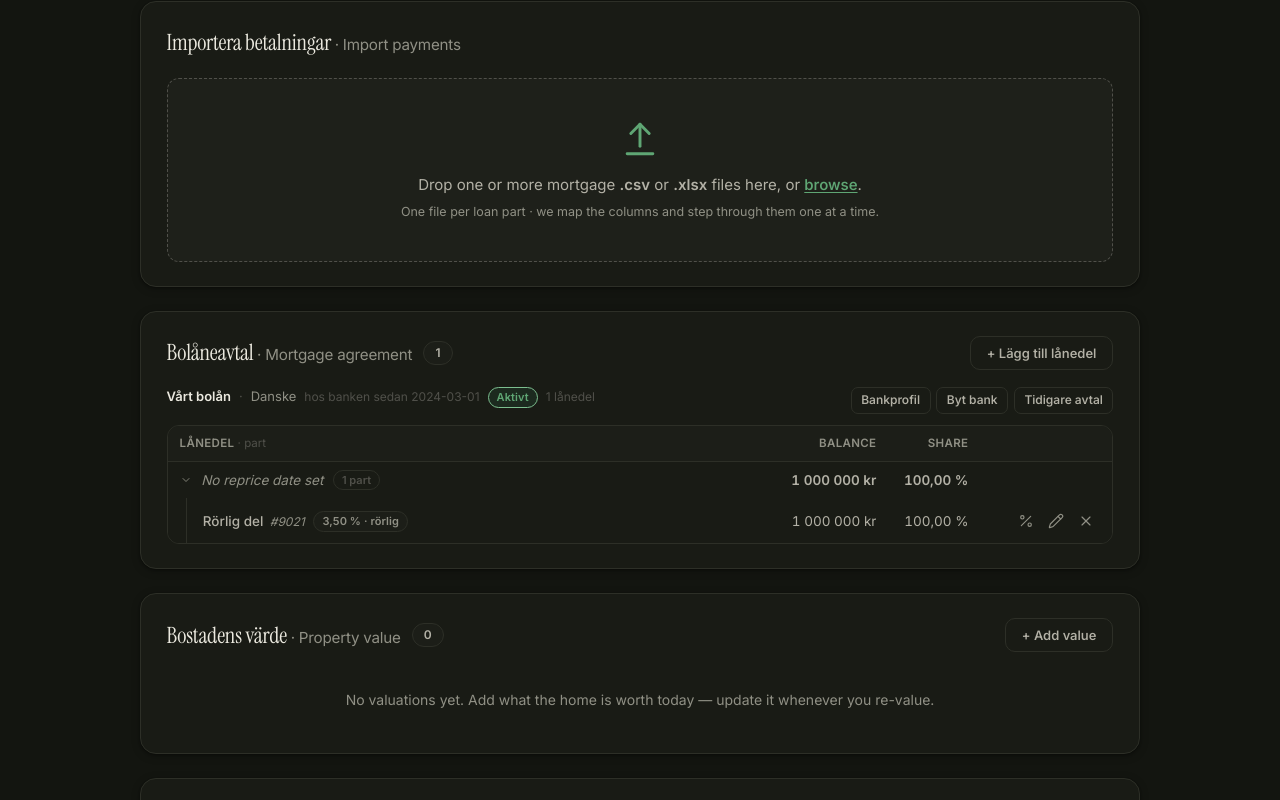
Test: Bolanekoll — change-bank wizard (plan 109c Stage 2) › previews the copied fields, and supports add/edit/remove of drafts
(page scrolled)
Click the button "Byt bank". click: (972, 400)
box: [936,387,1008,414]
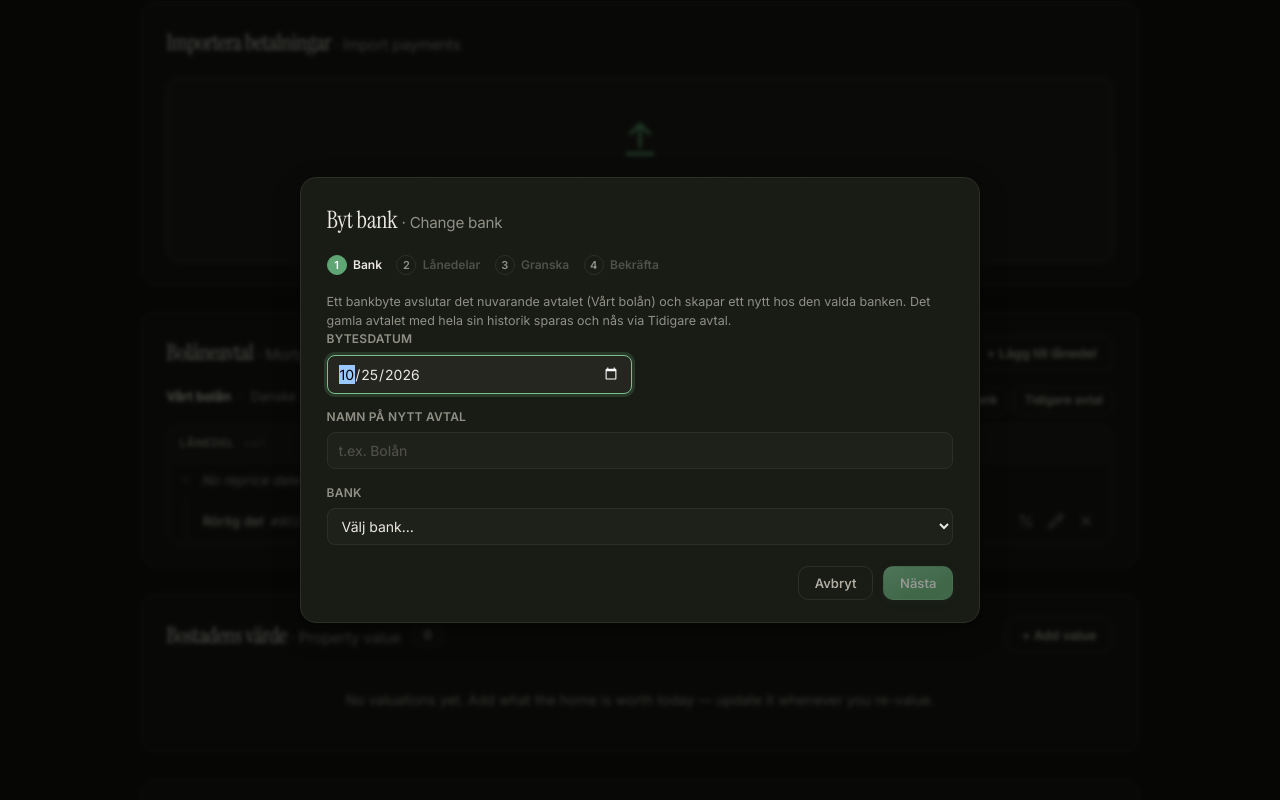
Select "Swedbank" in the dropdown. click: (640, 527)
box: [327,508,953,545]
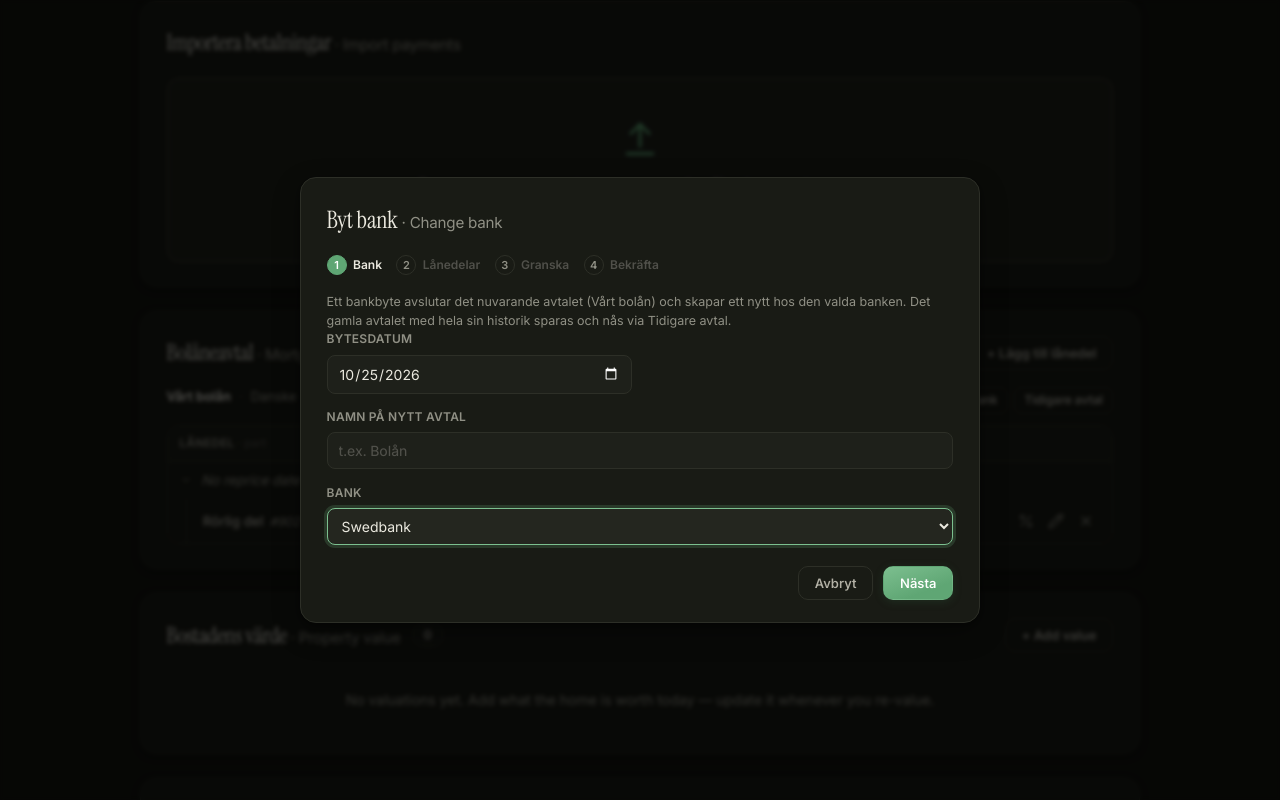
Click the button "Nästa". click: (918, 583)
box: [883,566,953,600]
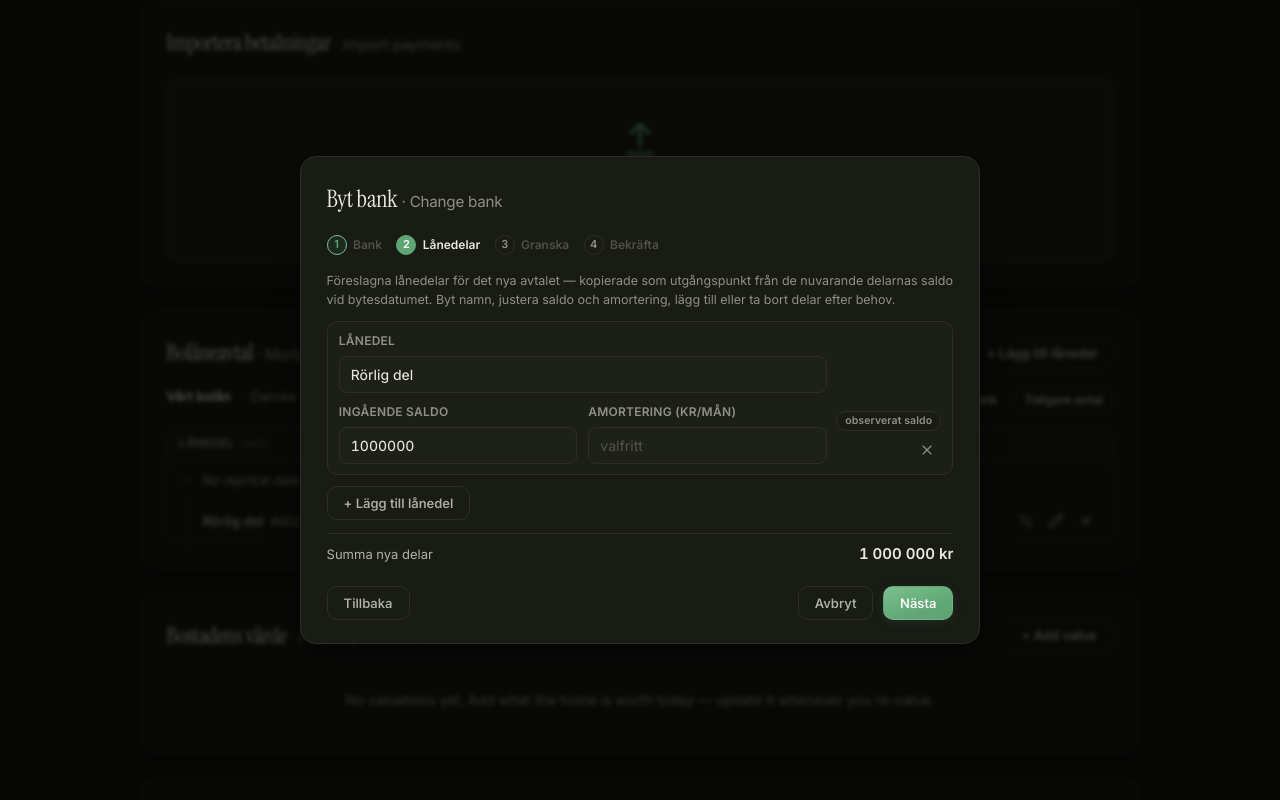
Expected: the field showing "Rörlig del" is shown
Expected: the field showing "1000000" is shown, [339,427,577,464]
Replace the text in the field showing "Rörlig del" with "Ombunden del". click: (583, 374)
box: [339,356,827,393]
Click the button "+ Lägg till lånedel". click: (398, 503)
box: [327,486,470,520]
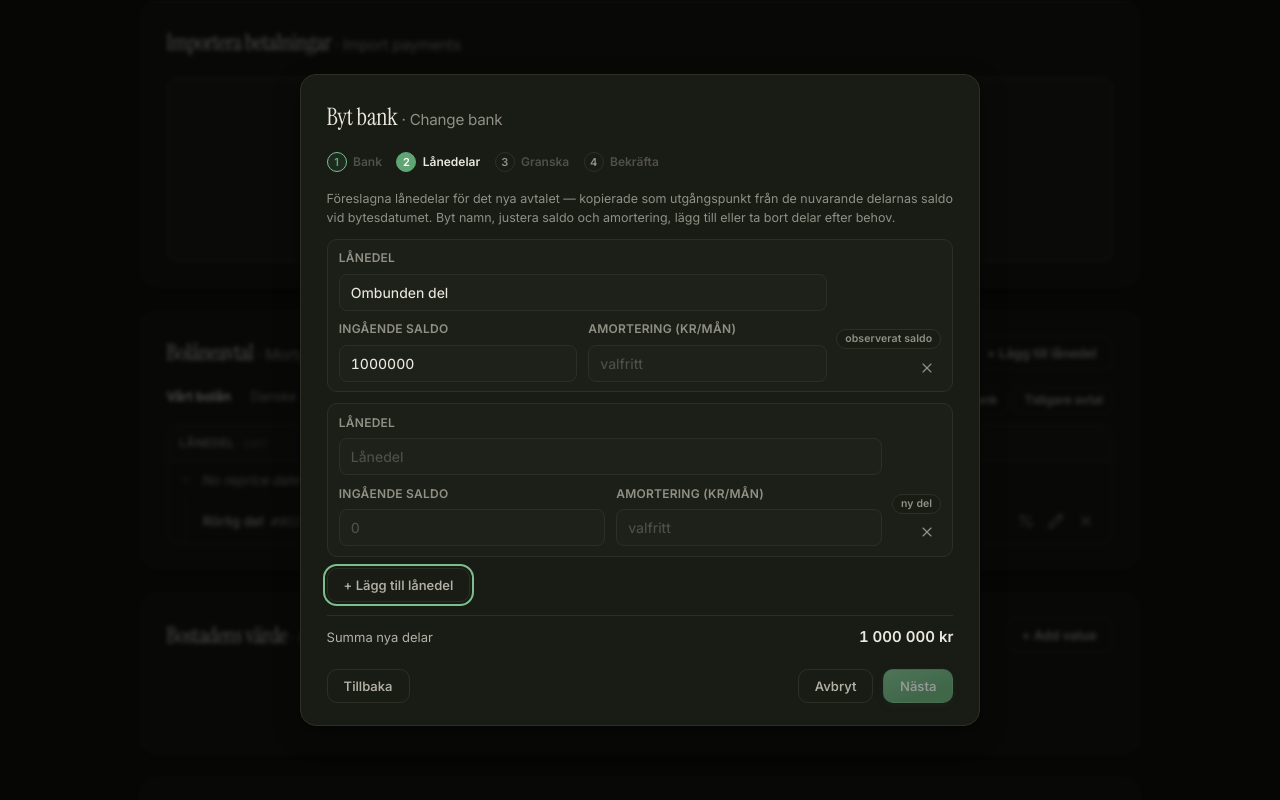
Expected: the number of buttons named "Ta bort lånedel" is 2
Click the button named "Ta bort lånedel" below "ny del". click: (927, 532)
box: [913,518,941,546]
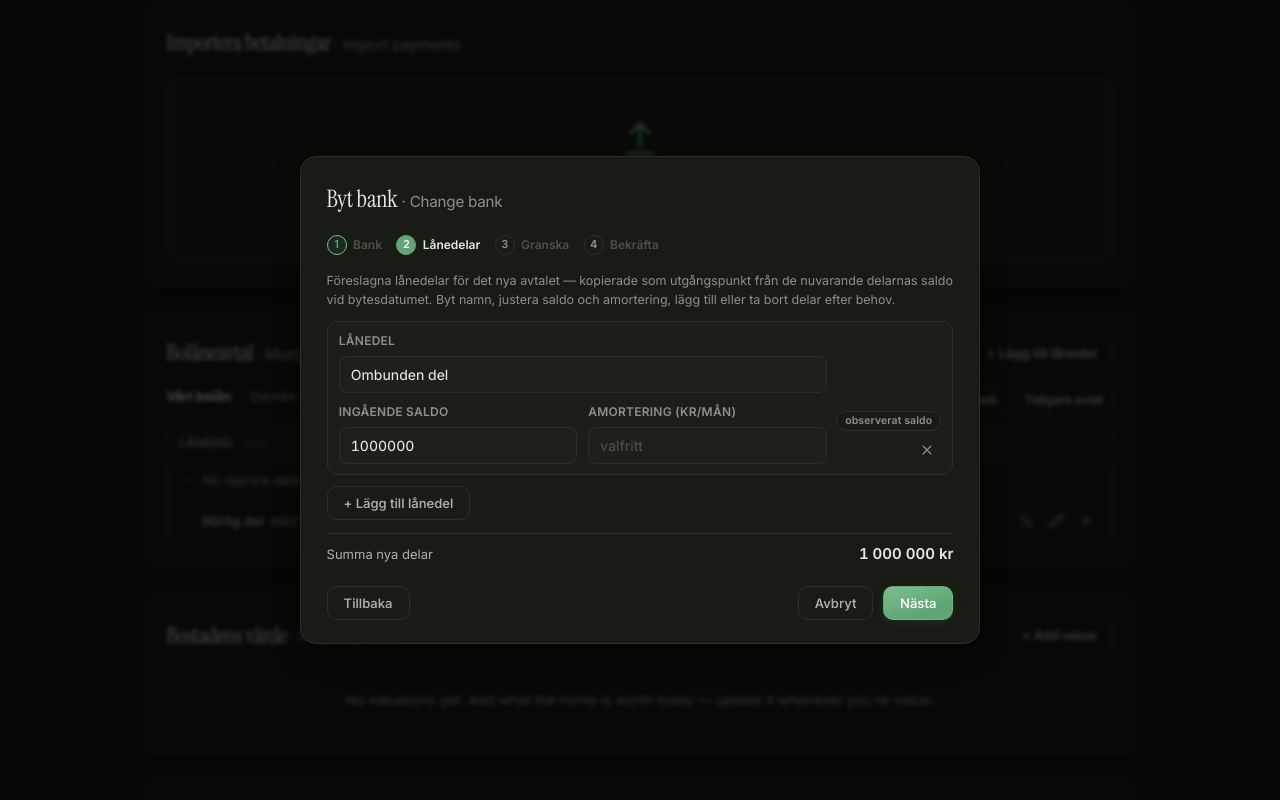
Expected: the number of buttons named "Ta bort lånedel" is 1, [913,436,941,464]
Click the button "Nästa". click: (918, 604)
box: [883,586,953,620]
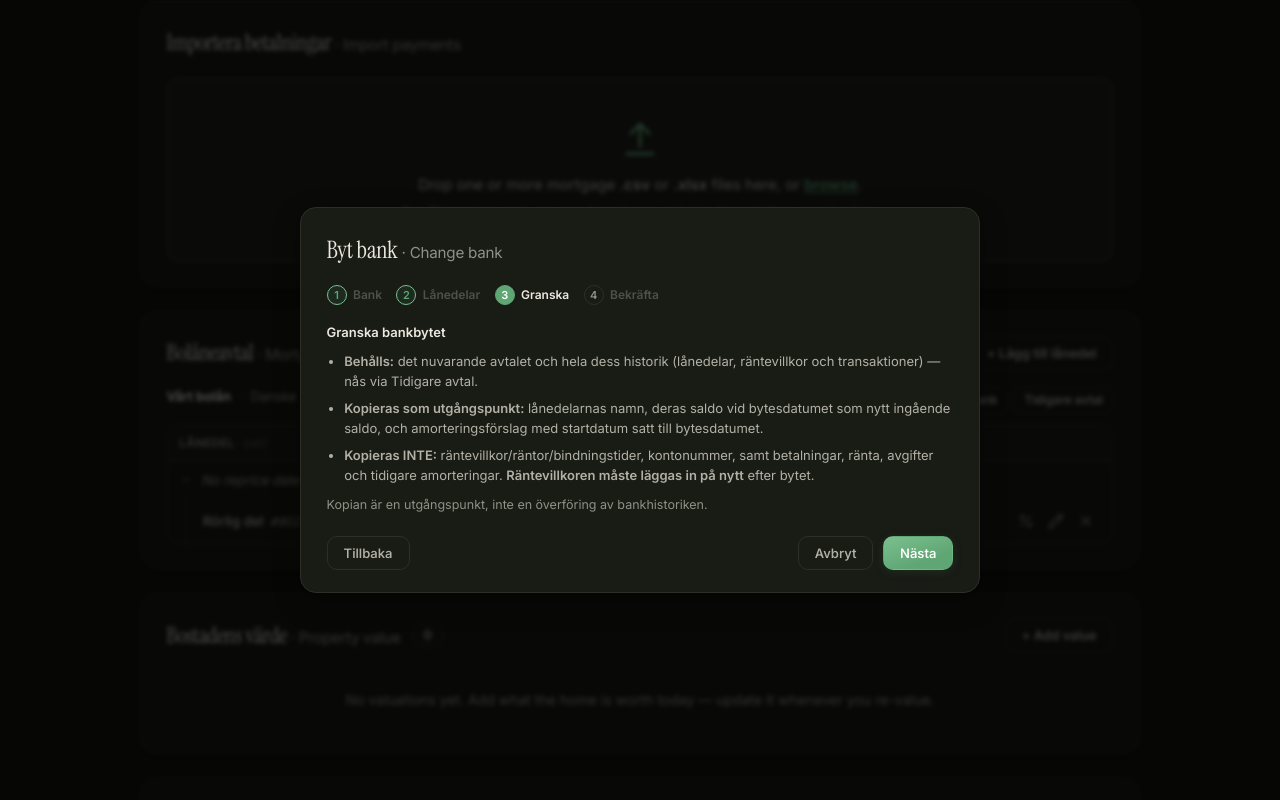
Expected: the text "Räntevillkoren måste läggas in på nytt" is shown, [506,467,744,483]
